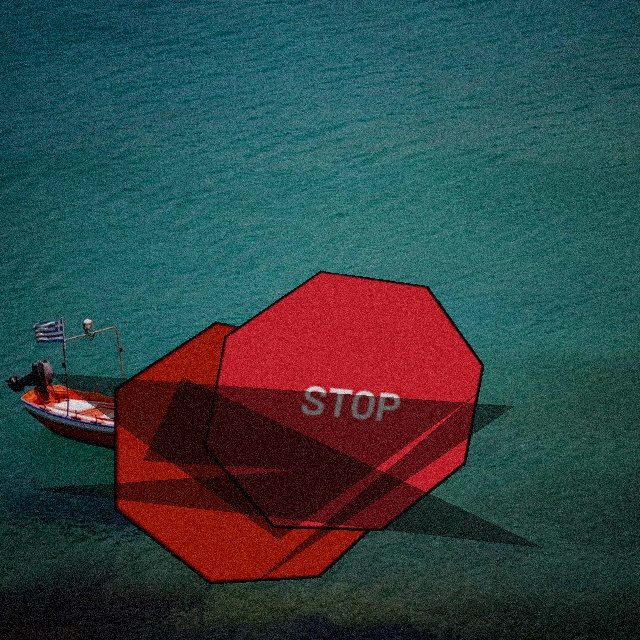STOP: (113, 321, 394, 584), (203, 270, 484, 531)
